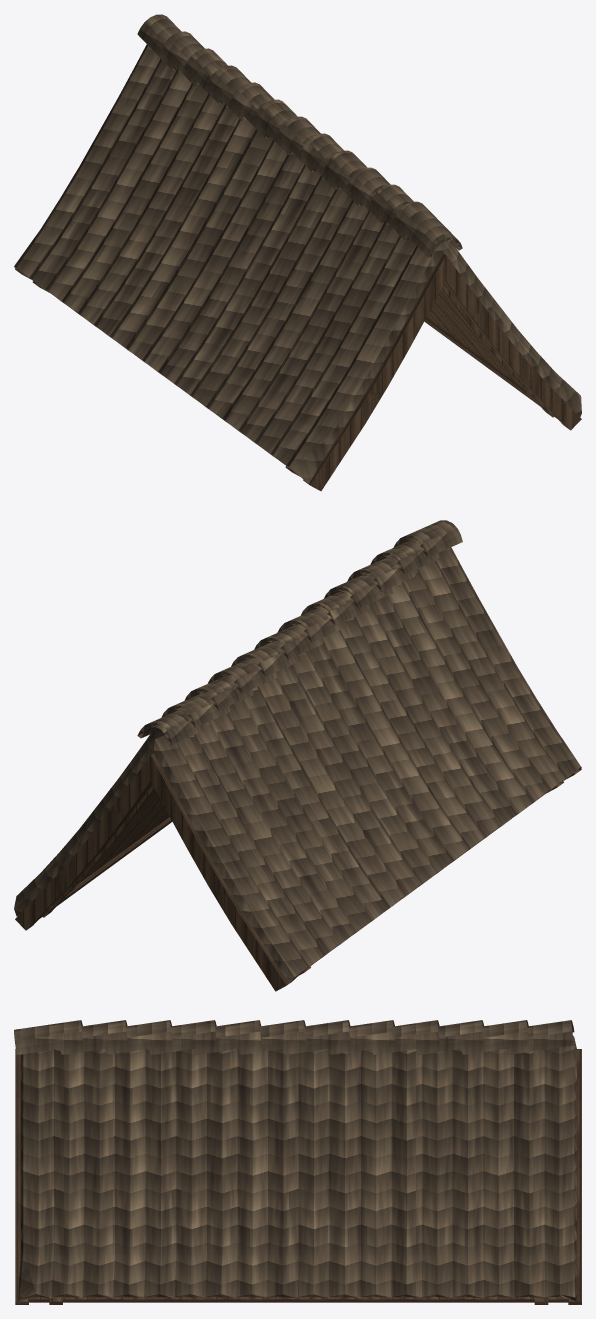
The model's file is Roof_Shingle_4x8.gltf.
3 views of the same model, one above another, from view 1: azimuth 30°, elevation 25°; view 2: azimuth 150°, elevation 25°; view 3: azimuth 270°, elevation 25° (orthographic). The views are drawn at different scales.
Visible parts, largest first — view 1: Roof_Shingle_4x8; view 2: Roof_Shingle_4x8; view 3: Roof_Shingle_4x8.
Part boxes in pixels (x1,y1,x2,y2): Roof_Shingle_4x8: [14, 14, 581, 491]; Roof_Shingle_4x8: [14, 520, 581, 991]; Roof_Shingle_4x8: [14, 1020, 581, 1304].
Bounding box in the file's own units: 5.51 × 4.23 × 9.68.
2 materials, 2 textured.
